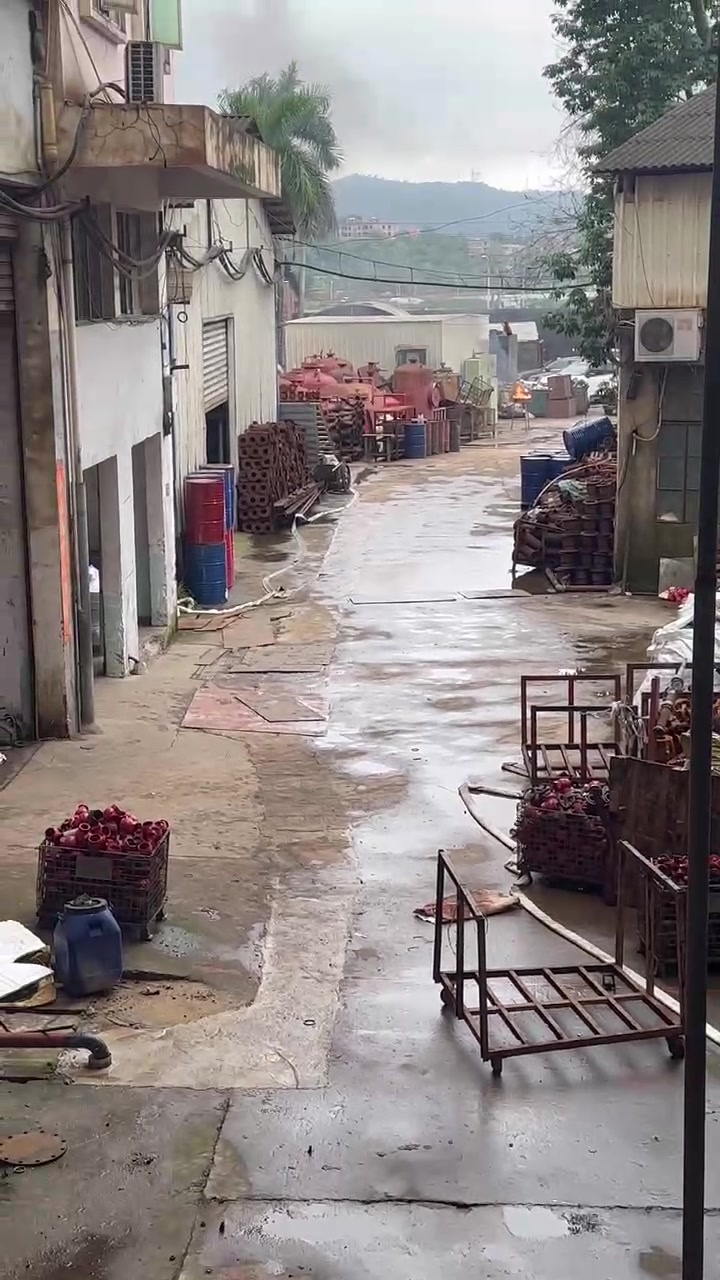fire: (512, 385, 531, 399)
